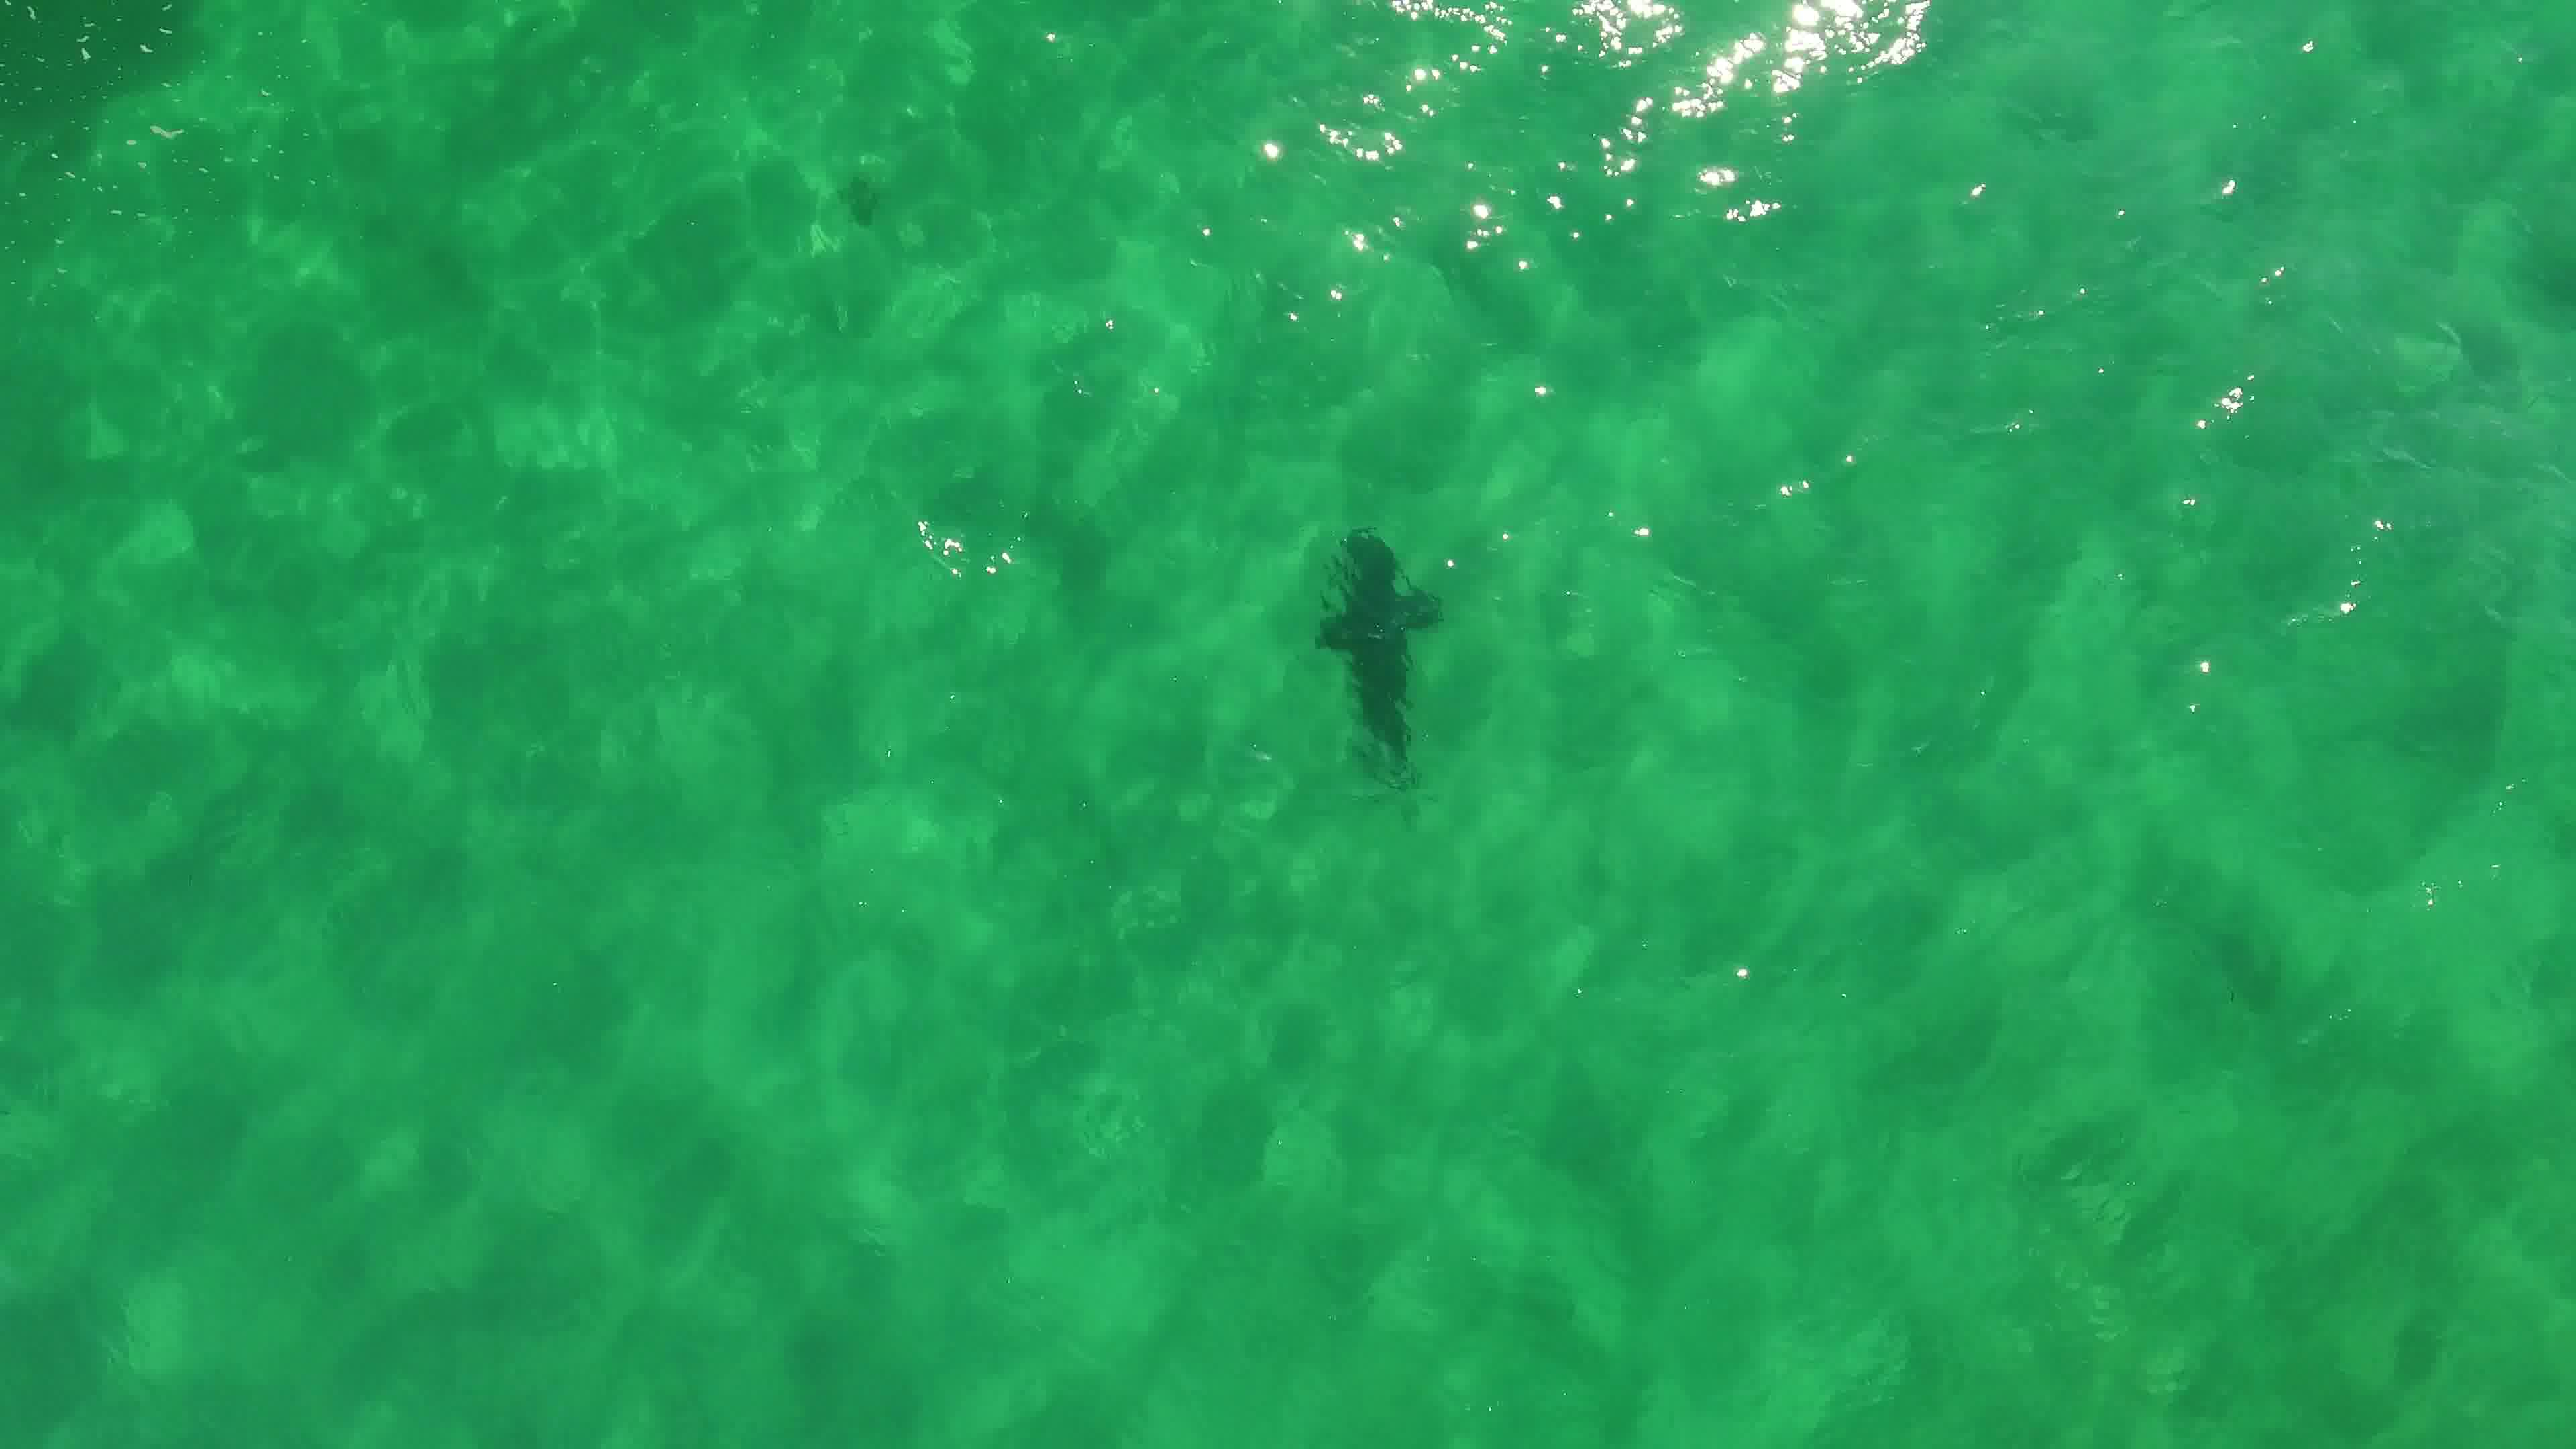shark: (1306, 518, 1451, 787)
